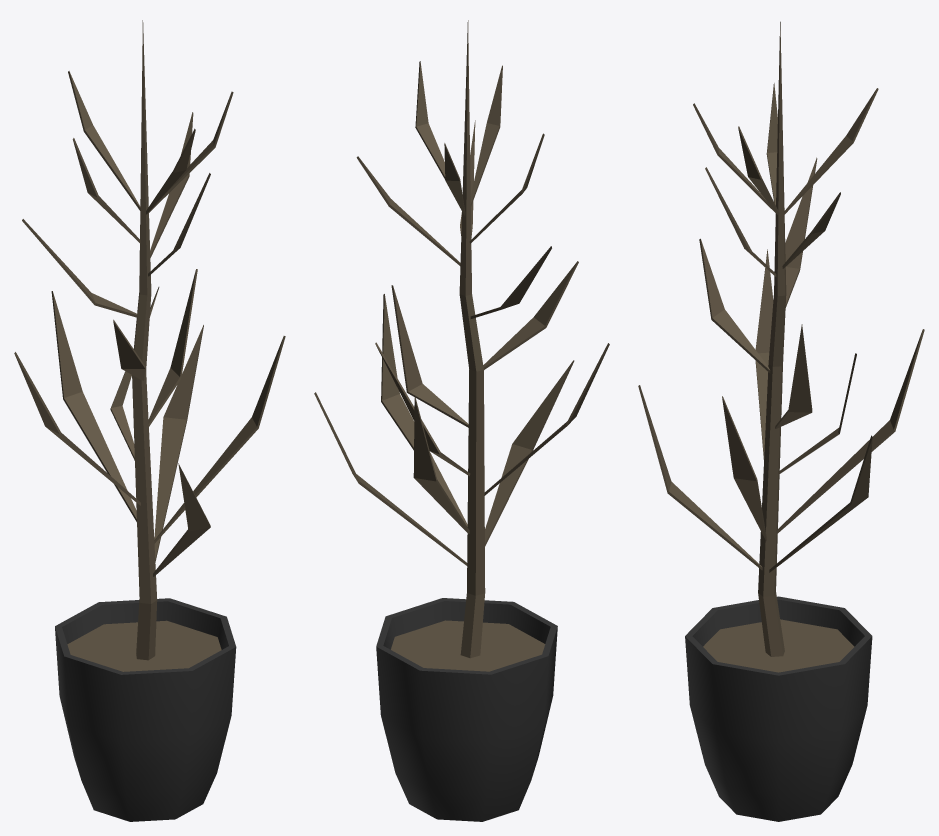
Rendered from Houseplant_8.glb.
3 views of the same model, side by side, from view 1: azimuth 30°, elevation 25°; view 2: azimuth 150°, elevation 25°; view 3: azimuth 270°, elevation 25° (orthographic).
Parts seen in each view (by area): view 1: Houseplant_8; view 2: Houseplant_8; view 3: Houseplant_8.
Boxes of the visible parts, box(x1,y1,x2,y2) form: Houseplant_8: box(14, 20, 285, 821); Houseplant_8: box(314, 20, 609, 821); Houseplant_8: box(638, 21, 924, 821).
Size of the model in its own units: 0.5171 by 1.56 by 0.5171.
